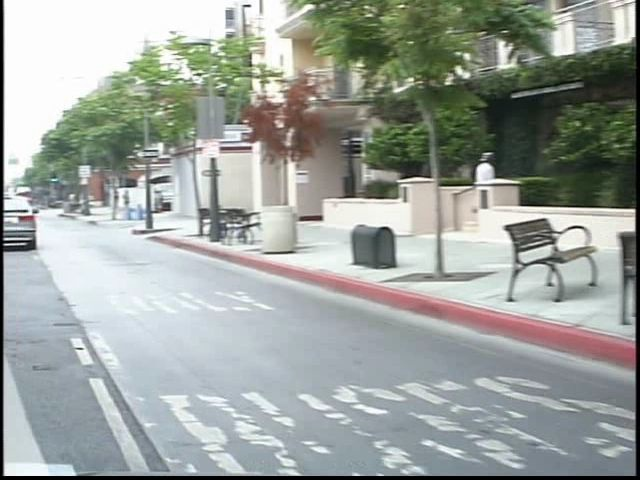person: (450, 146, 490, 234), (105, 183, 123, 217)
